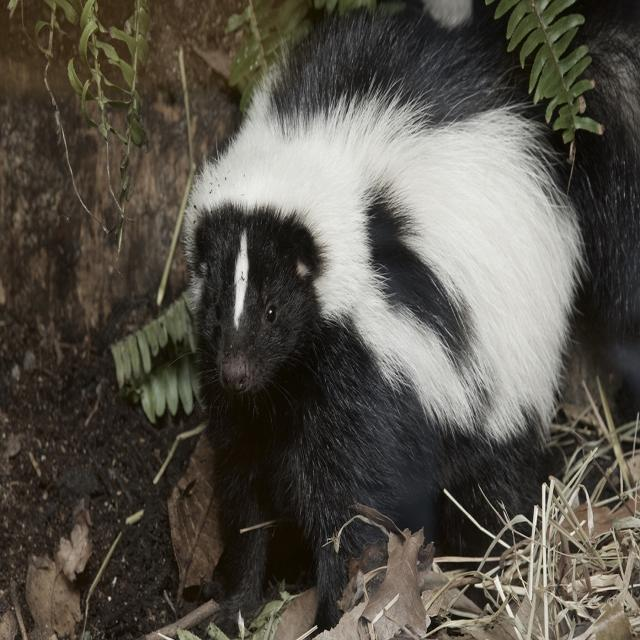Skunk: (175, 0, 640, 628)
